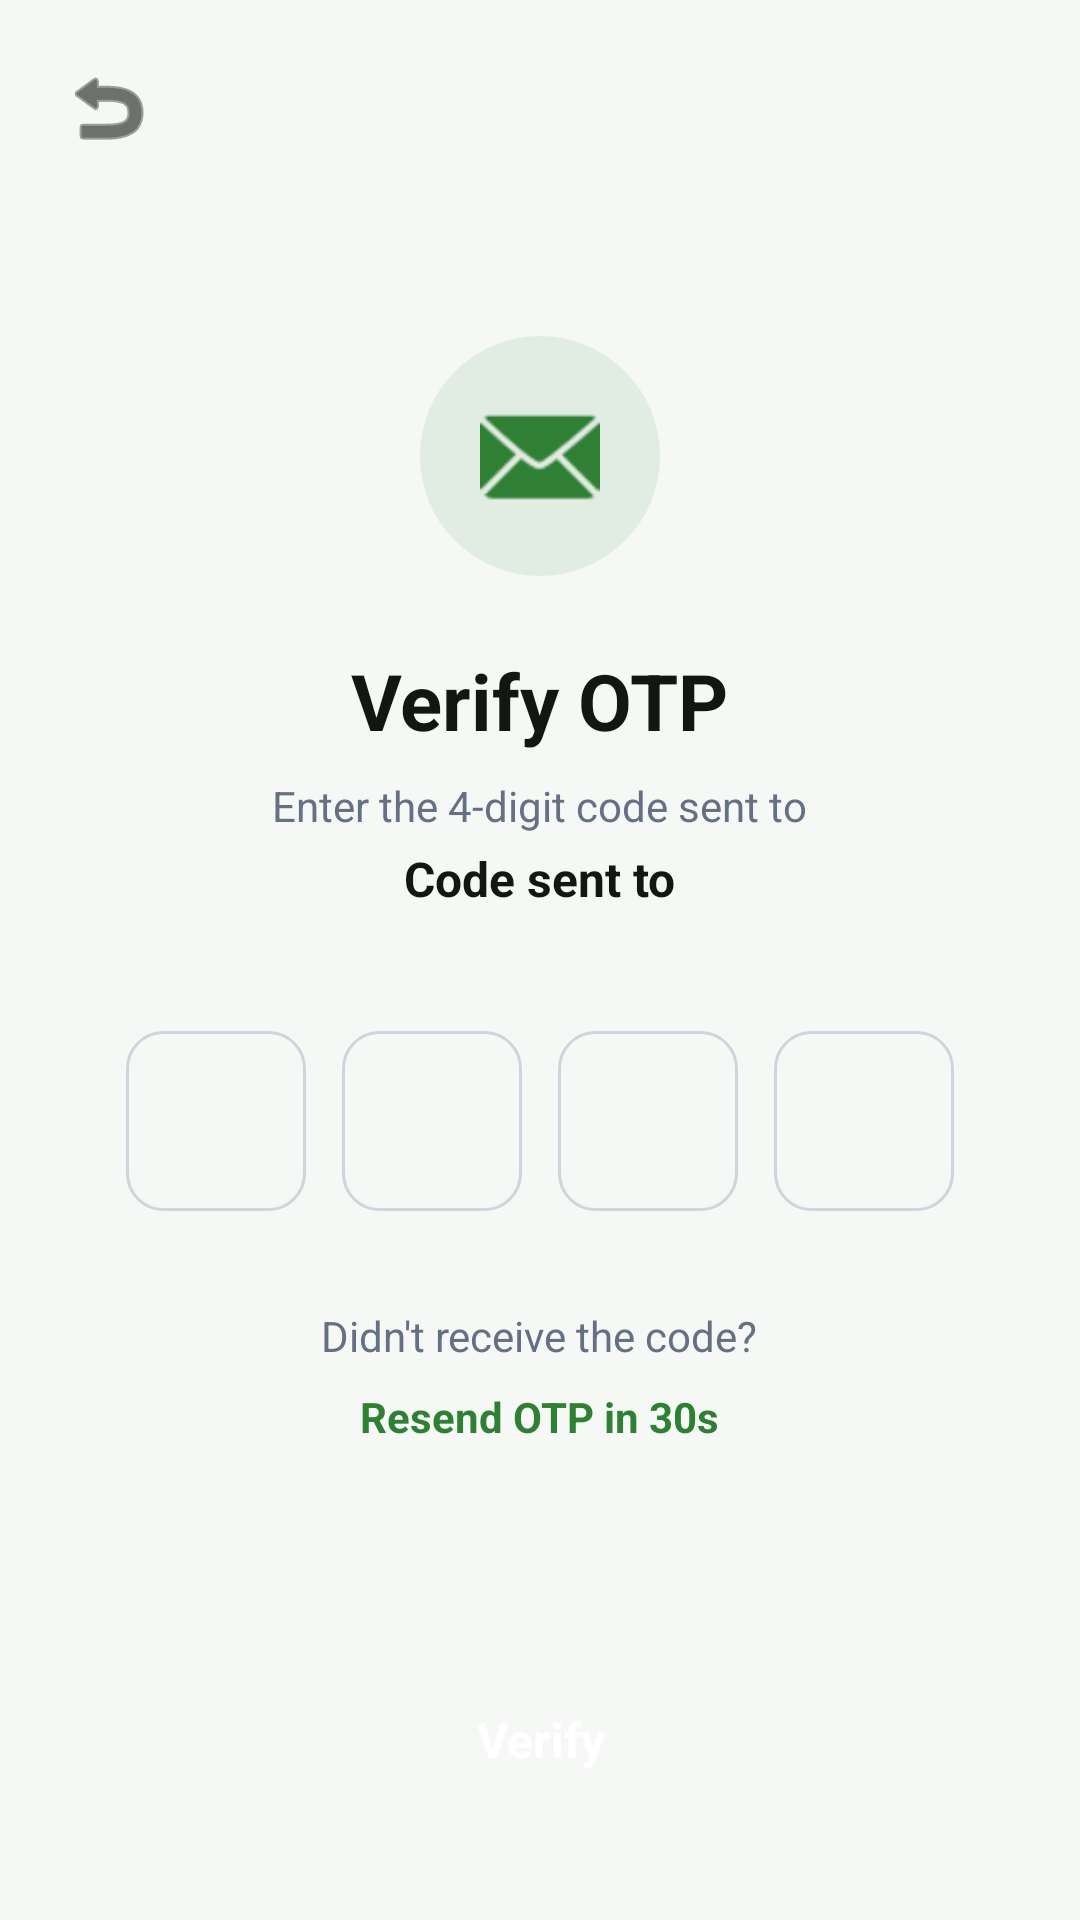

Where to tap for icons on this 1080px x 1920px app screen, as point (x, y):
Back: point (109, 108)
